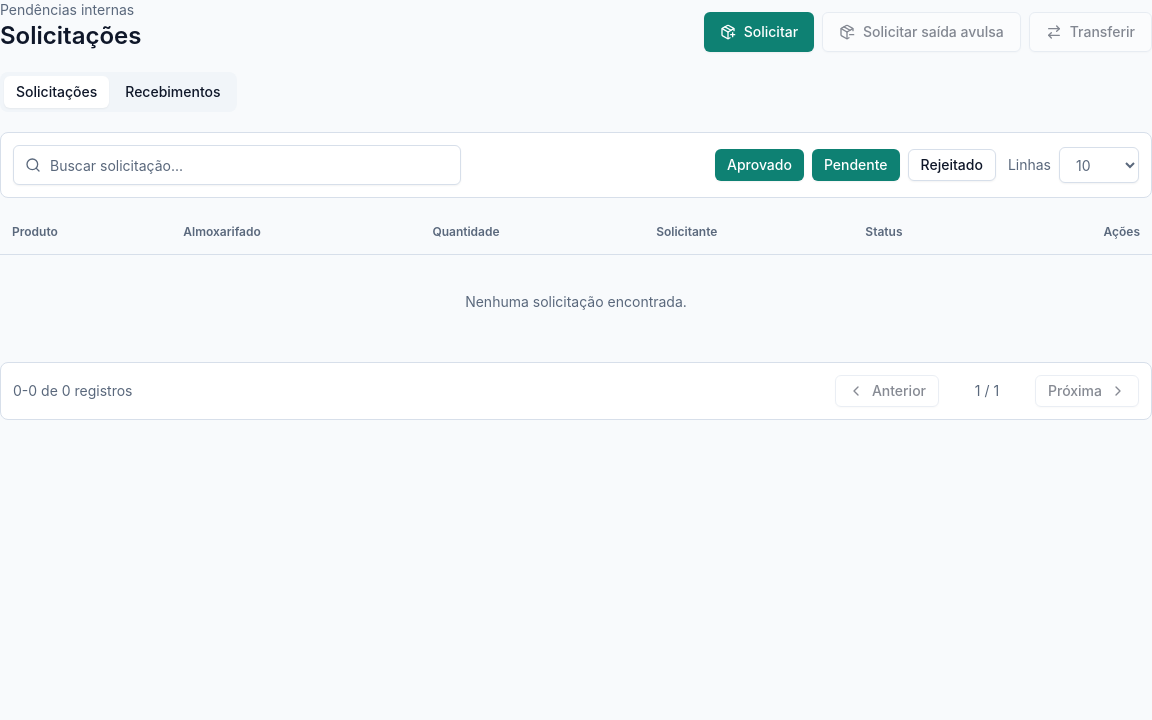
Test: RequestsPage › opens a direct request dialog with warehouse and product fields
Click the button "Solicitar": (759, 32) [704,12,814,52]
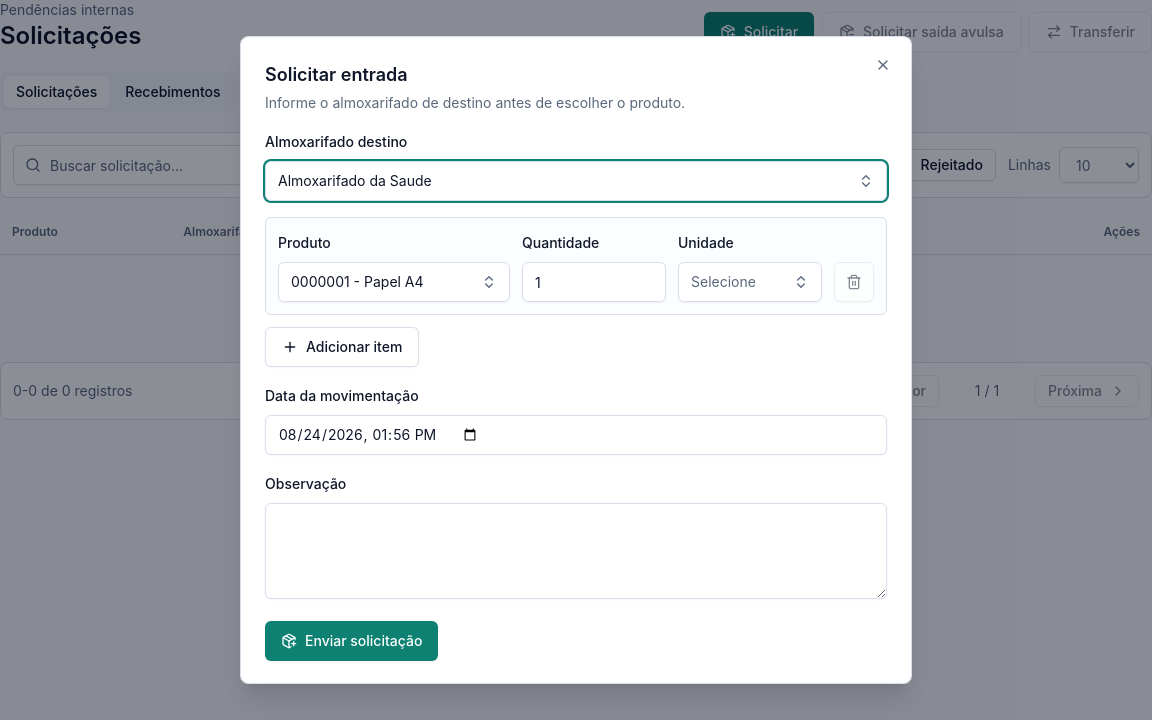
Expected: the dialog "Solicitar entrada" is shown, [240,36,912,684]
Expected: the button with aria-label "Almoxarifado destino" is shown, [265,161,887,201]
Expected: the button with aria-label "Produto" is shown, [278,262,510,302]
